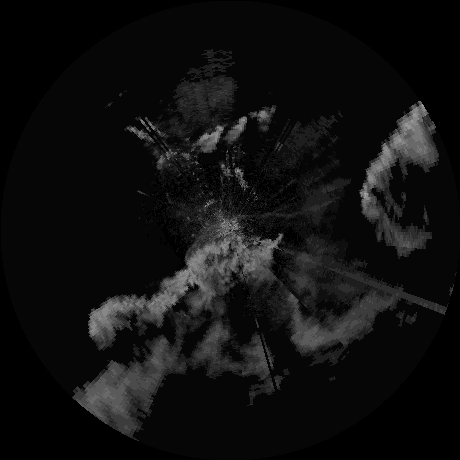frontgust: (236, 210, 311, 224)
